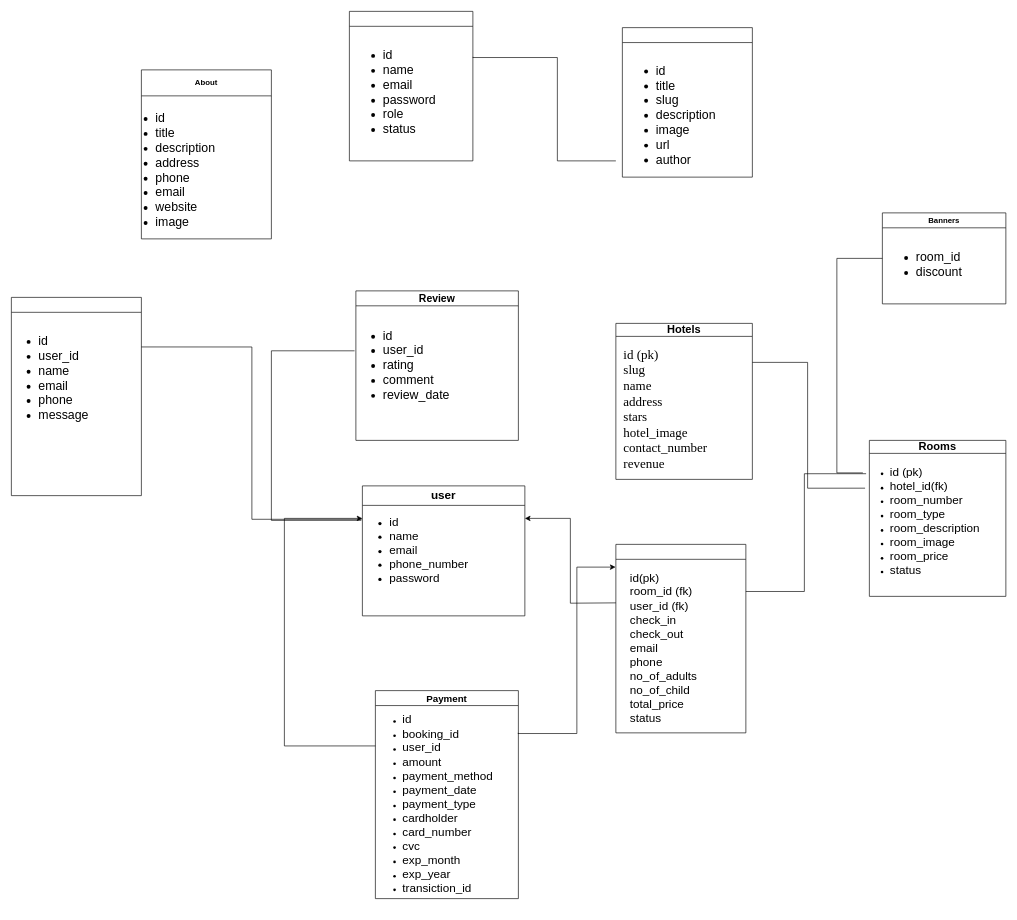
The diagram is 1017 pixels wide and 920 high, and some of its shapes have lost their labels. The box of each missing label's shape, as (x1, y1, x2, y2) in pixels:
Admins: (349, 11, 473, 161)
Blogs: (622, 27, 752, 177)
Booking: (615, 544, 746, 733)
Contact: (11, 297, 141, 496)
